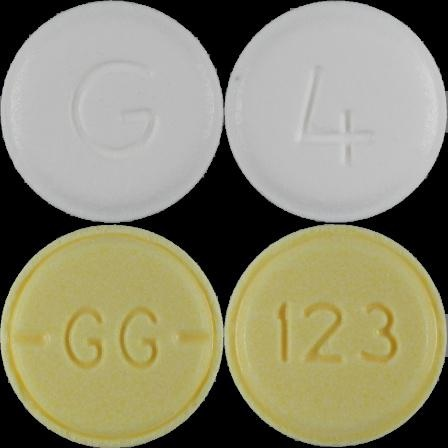68258-7068: (0, 0, 224, 224)
